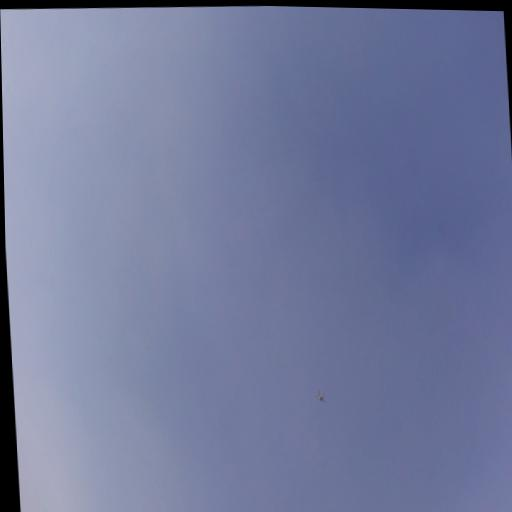drones: (314, 388, 326, 405)
